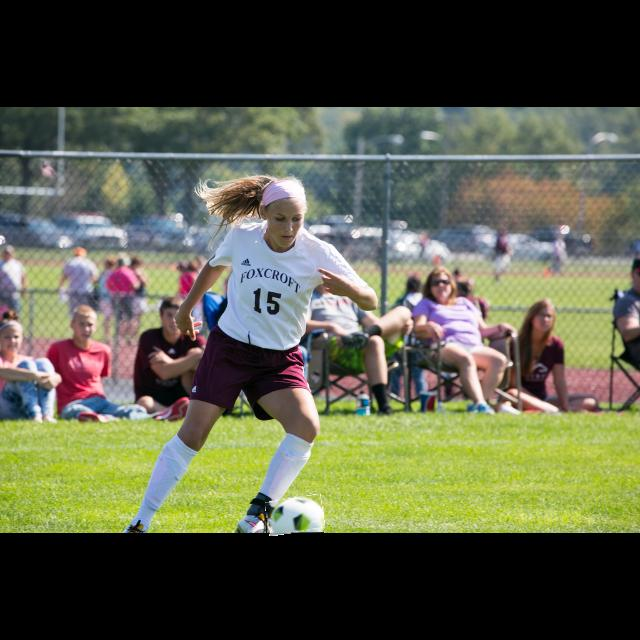Football: (266, 496, 324, 534)
